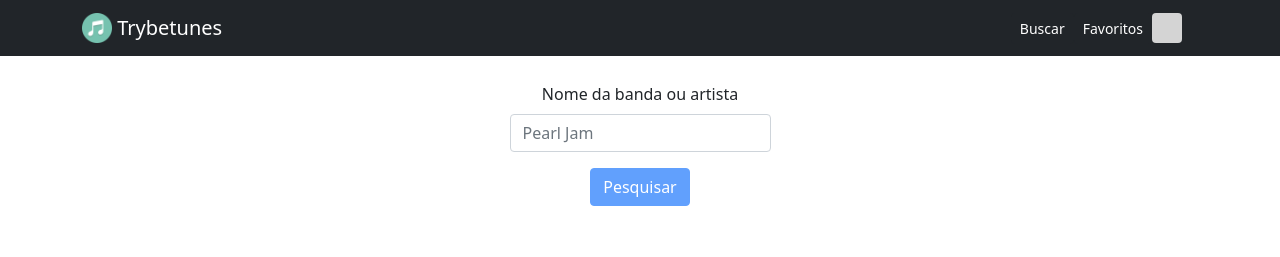
Test: Requisição para pesquisar artistas › Será validado se caso a API não retorne nenhum álbum, a mensagem Nenhum álbum foi encontrado é exibida
The width and height of the screenshot is (1280, 257).
Type "Artist Name" into the field with test id "search-artist-input".
click(640, 133); type("Artist Name")  # box [510,114,770,152]
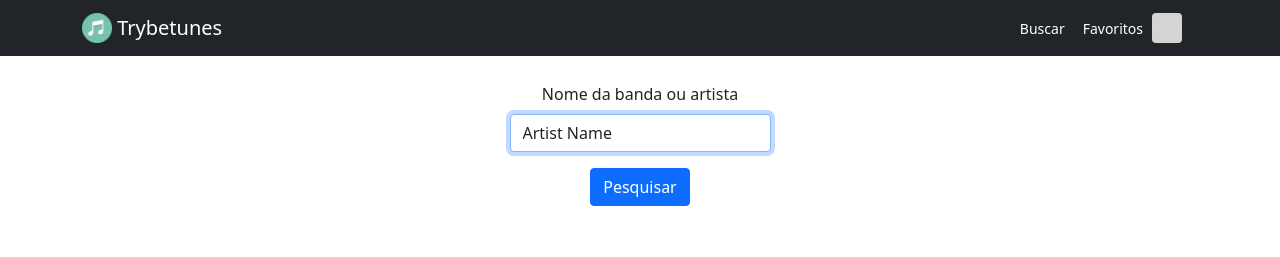
Click the button with test id "search-artist-button".
click(640, 187)  # box [590,168,690,206]
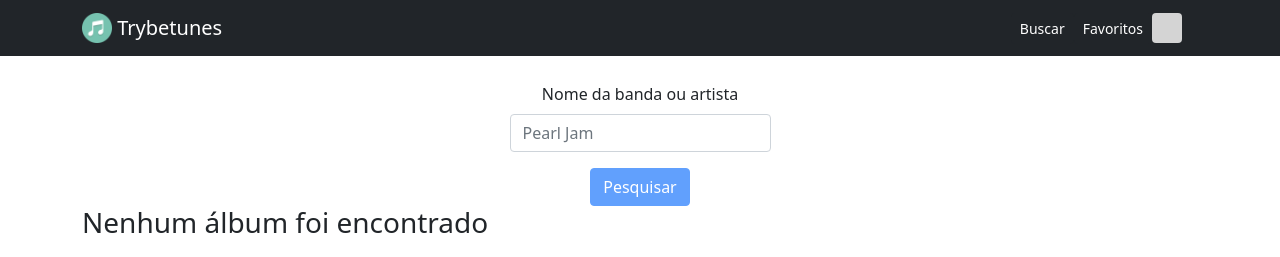
Now the heading "Nenhum álbum foi encontrado" is shown, box [82,203,488,241]
